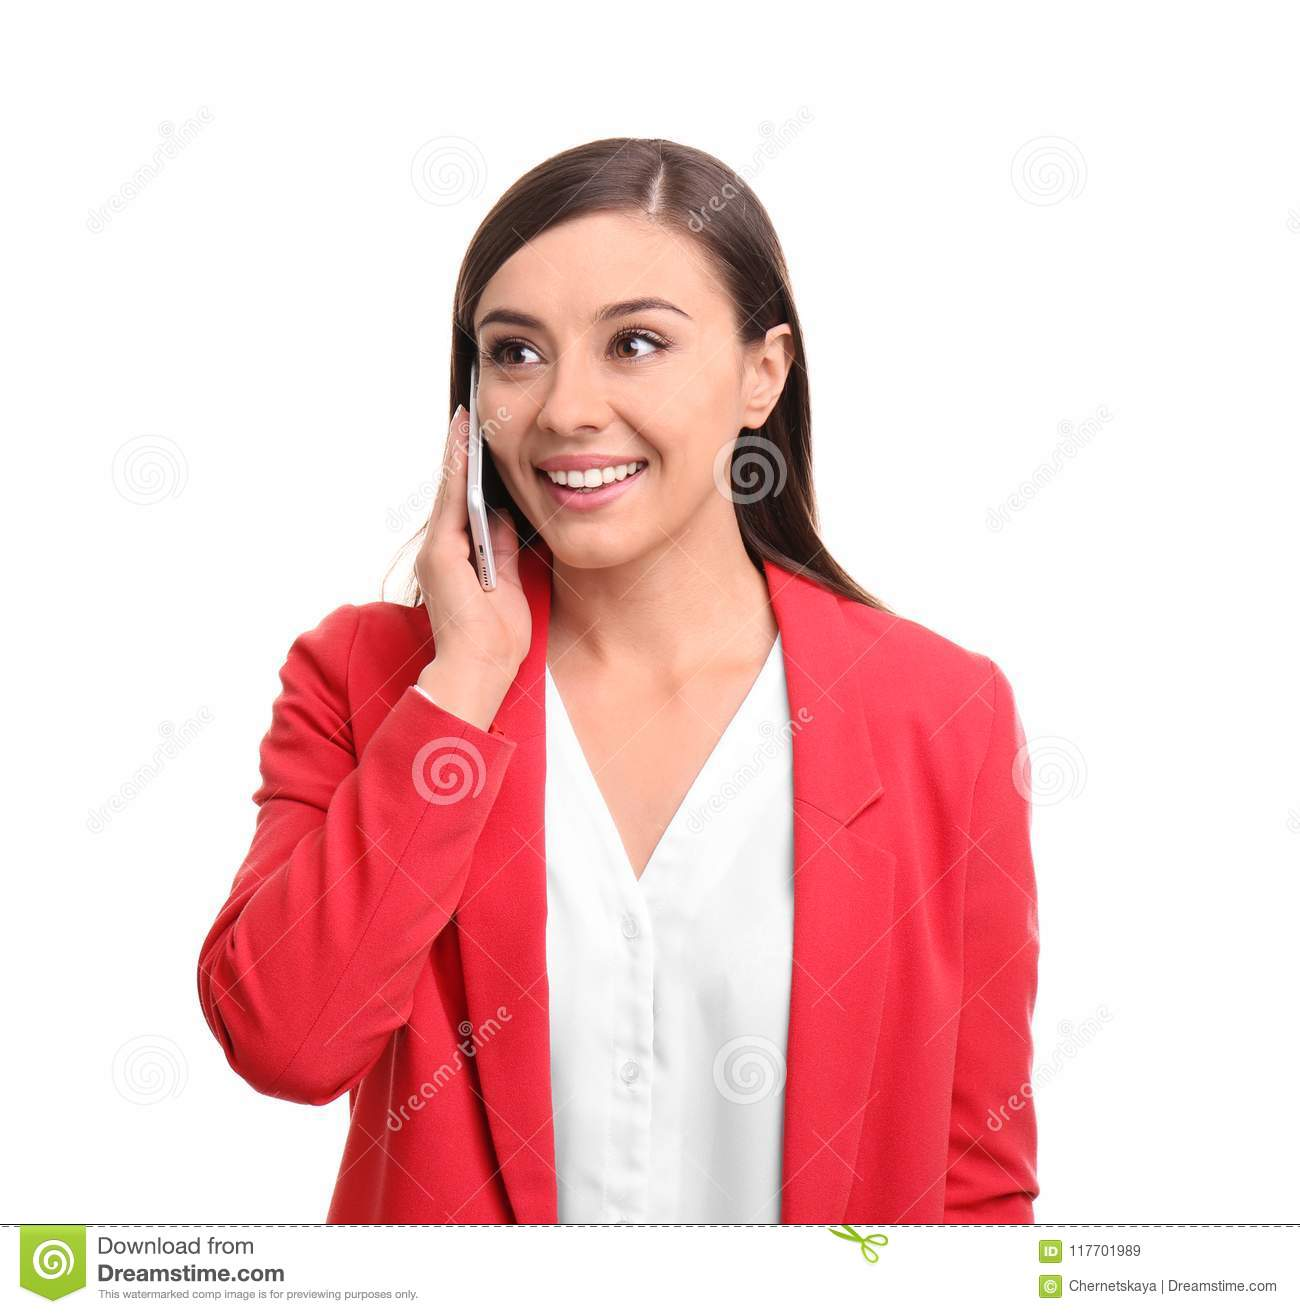phone: (454, 355, 510, 597)
talk: (421, 275, 714, 664)
